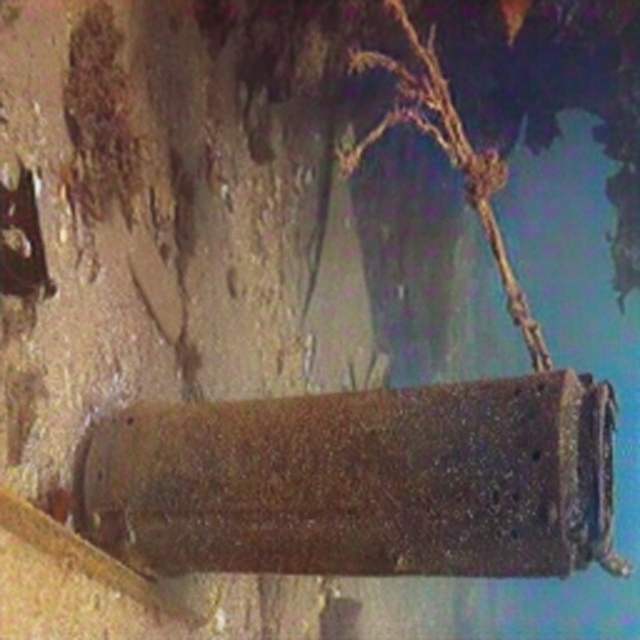mine: (68, 363, 619, 587)
